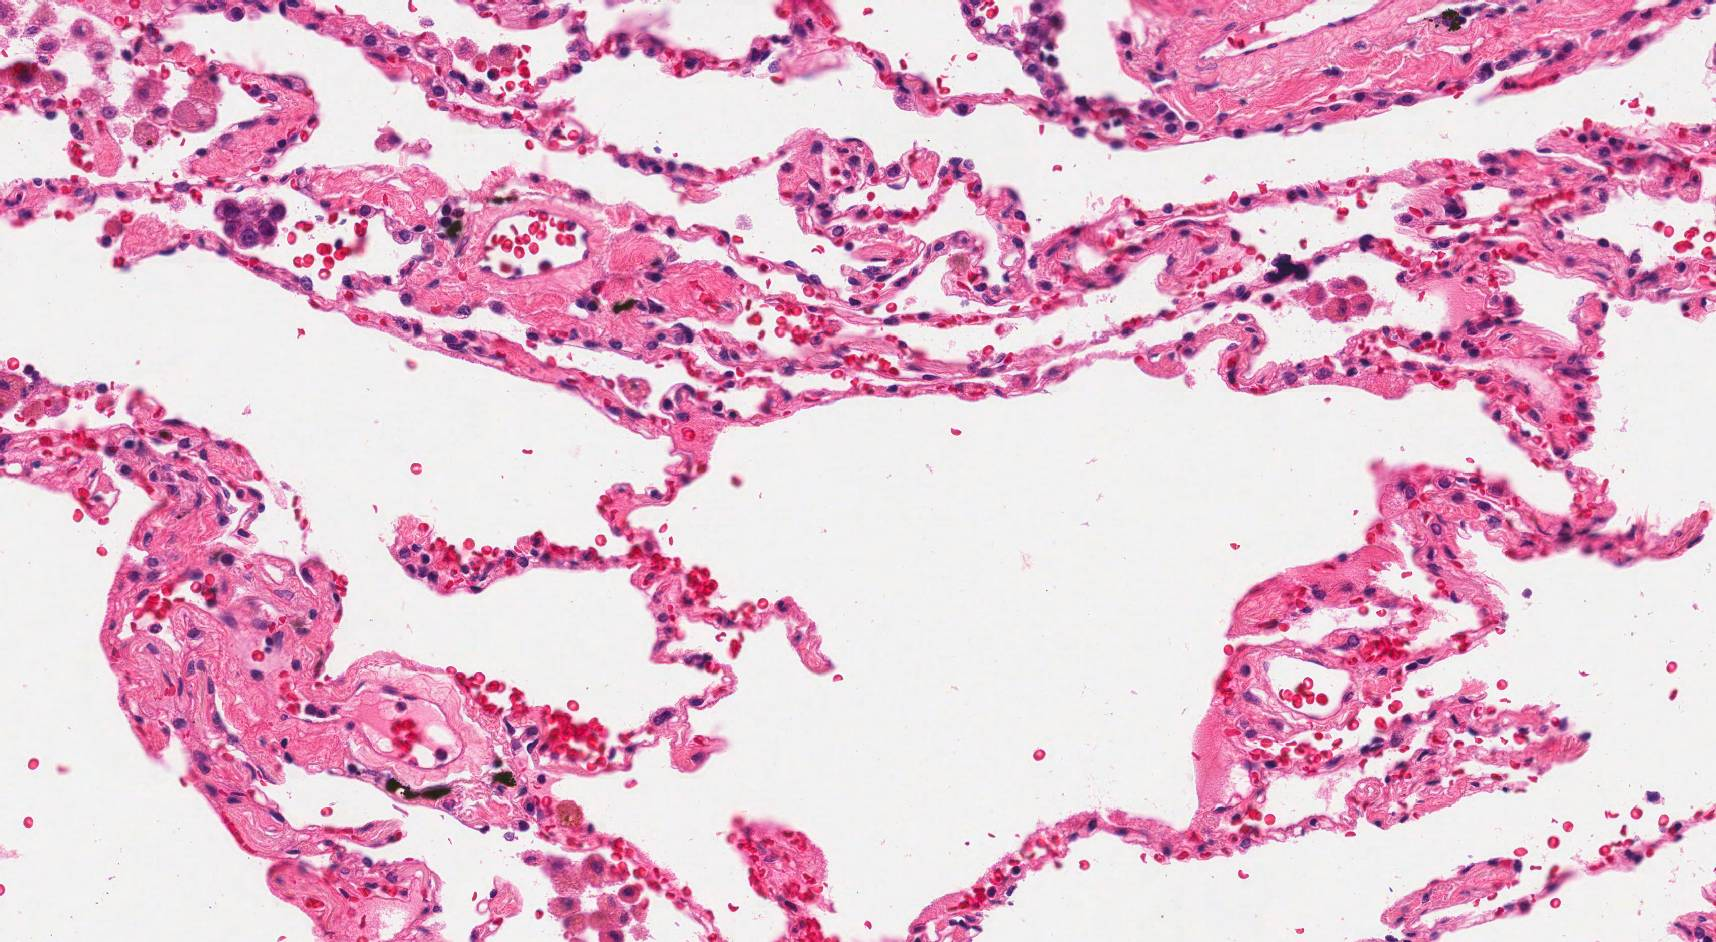stas: (214, 196, 288, 248)
